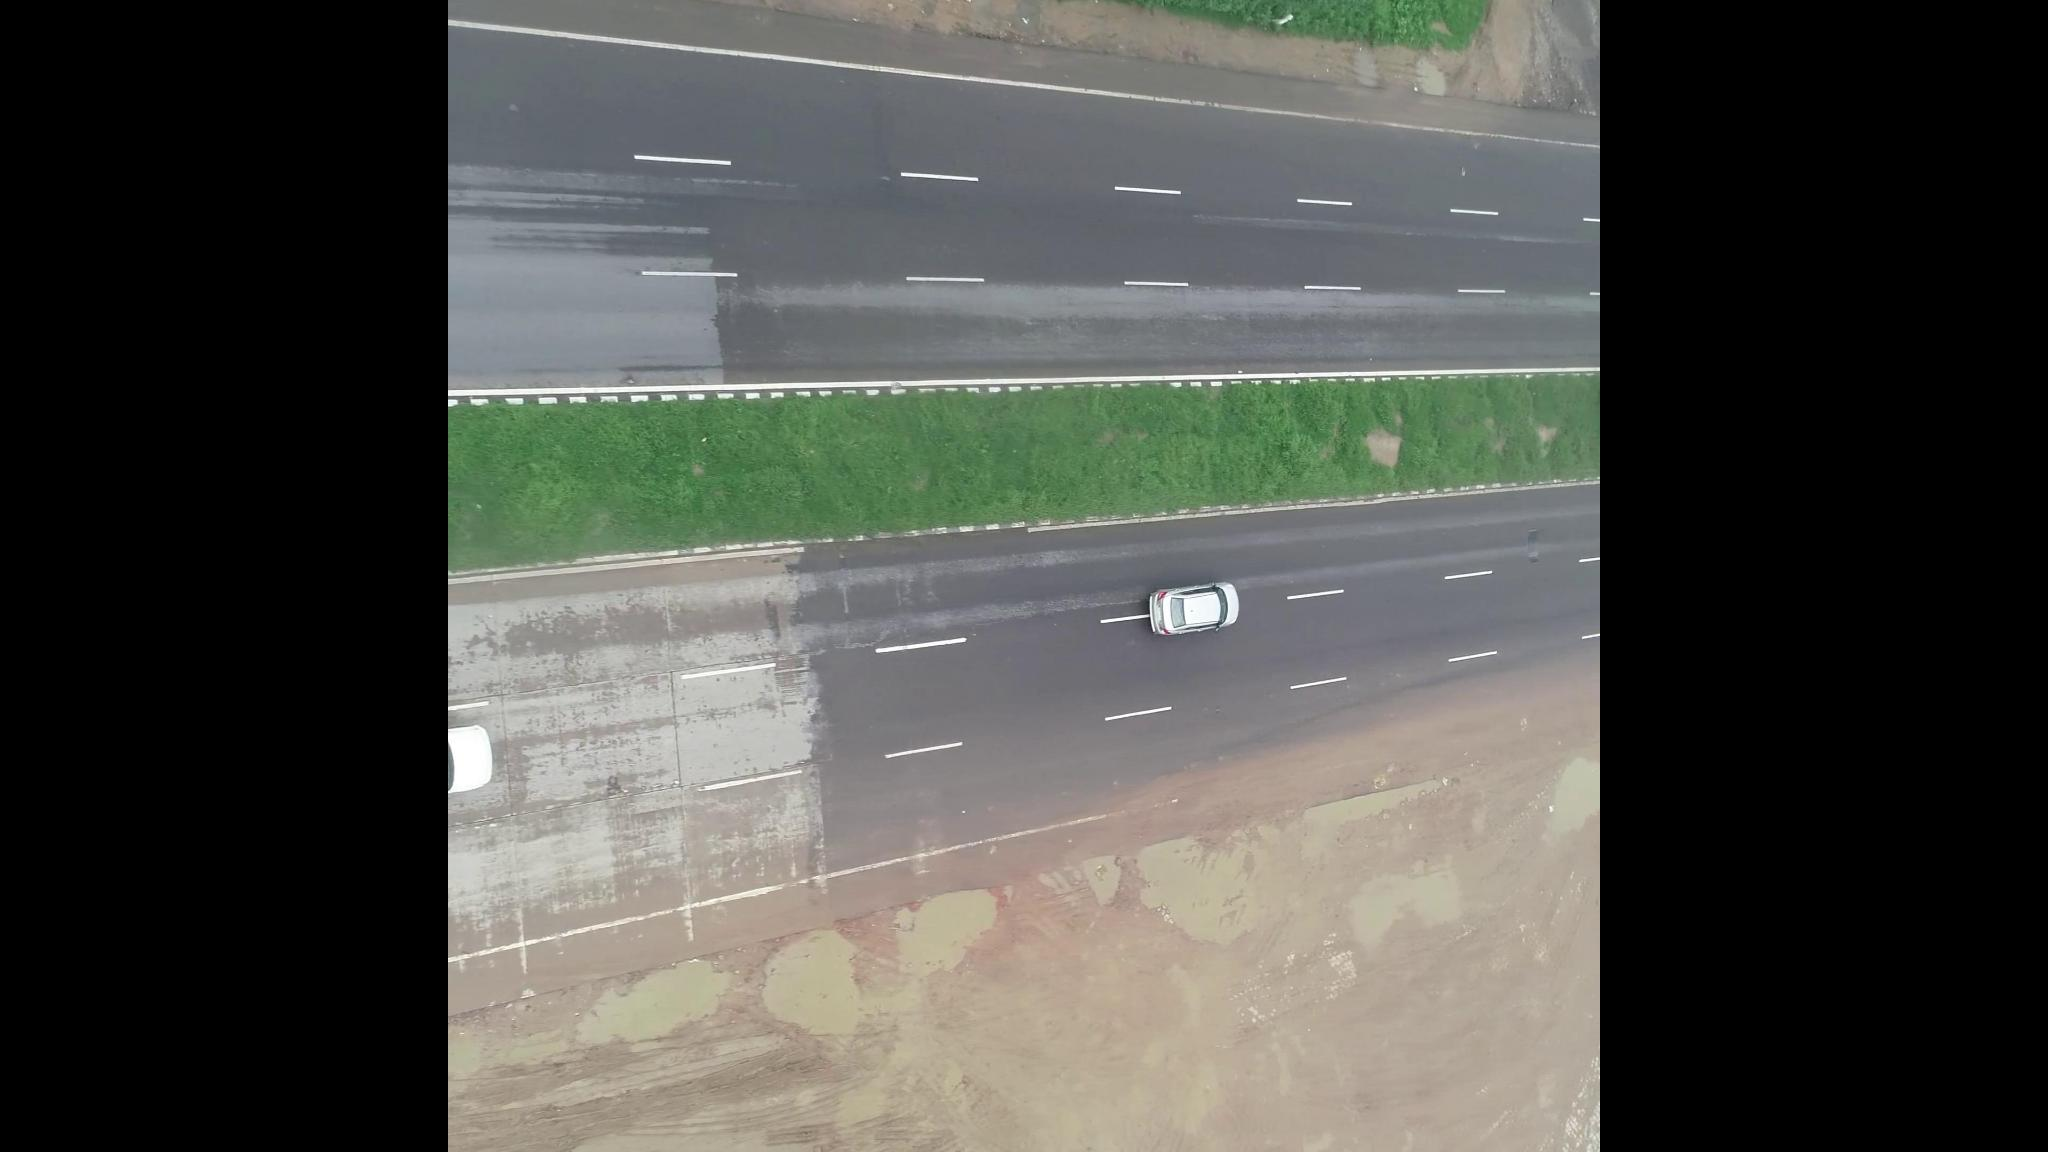Muddy_road: (1249, 655, 1551, 774)
